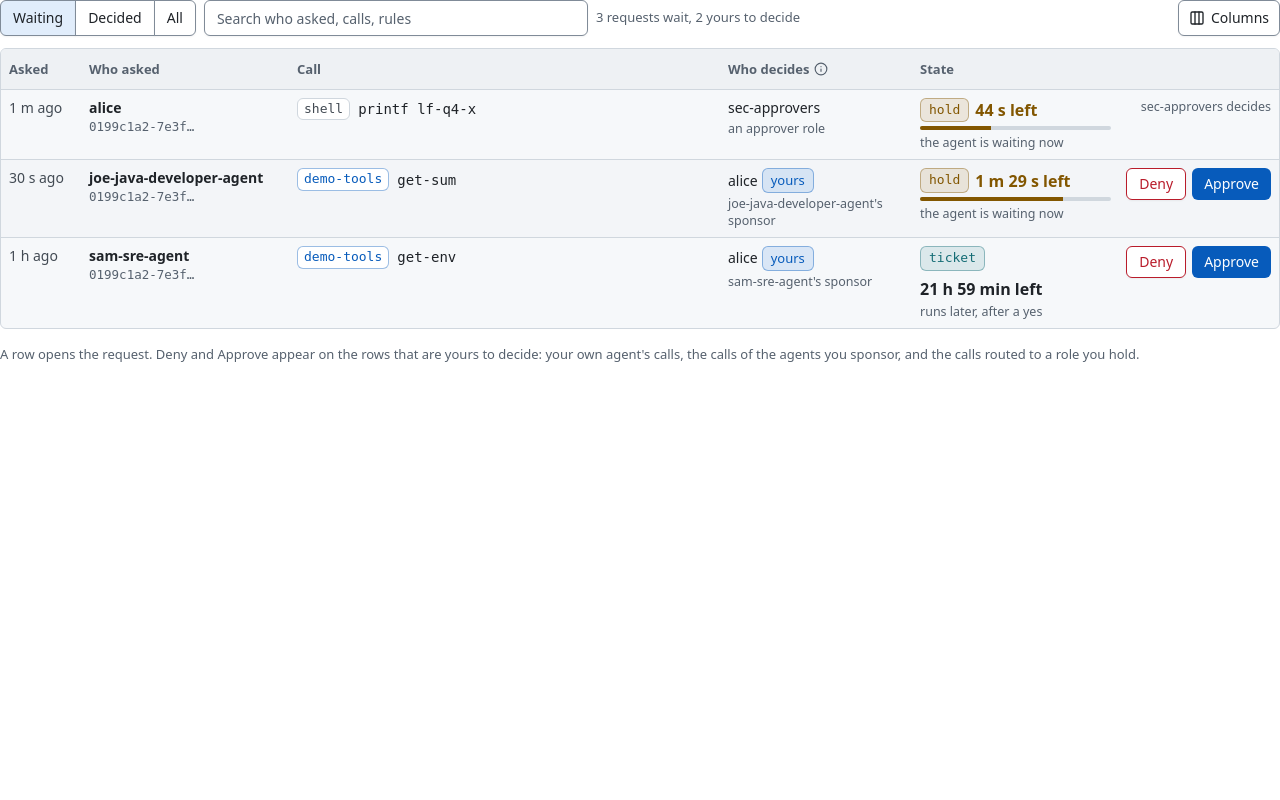
the self-service requests tab › ends the question with Close when the request was settled first
expect the button with aria-label "Open get-sum for joe-java-developer-agent" is shown: met, box [1,160,1279,238]
Click the button with aria-label "Approve get-sum for joe-java-developer-agent" at (1232, 184), box [1192,168,1271,200]
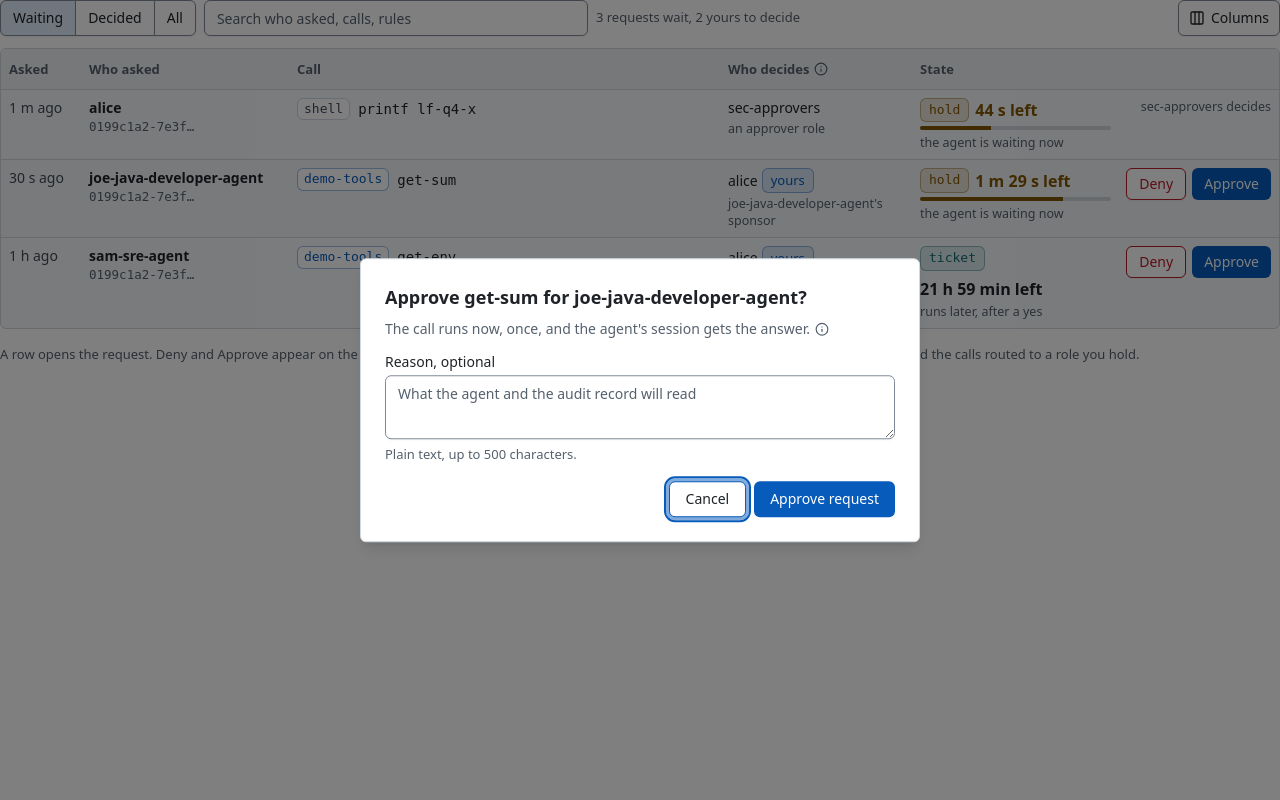
Click the button "Approve request" at (825, 499), box [754,481,895,517]
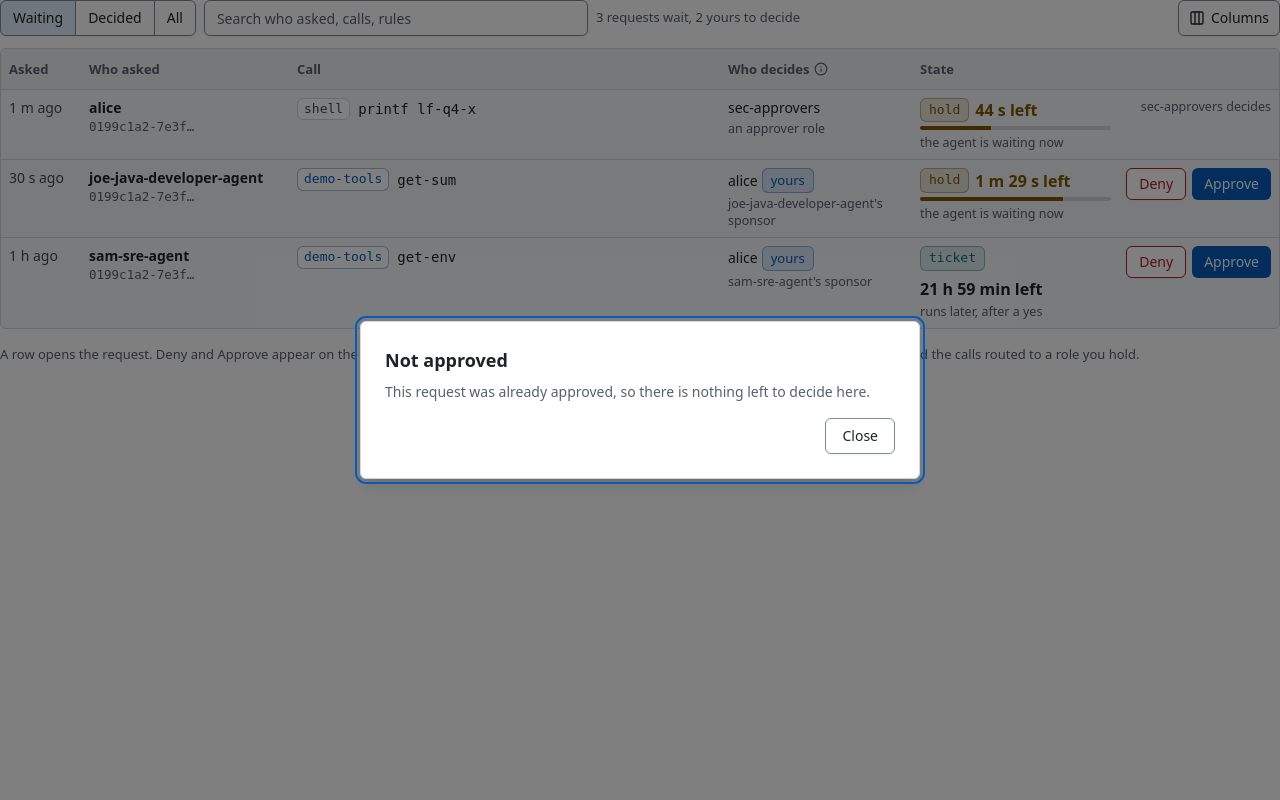
expect the text "This request was already approved, so there is nothing left to decide here." is shown: met, box [385,382,895,402]
expect the button "Close" is shown: met, box [826,418,895,454]
expect the button "Approve request" is gone: met
